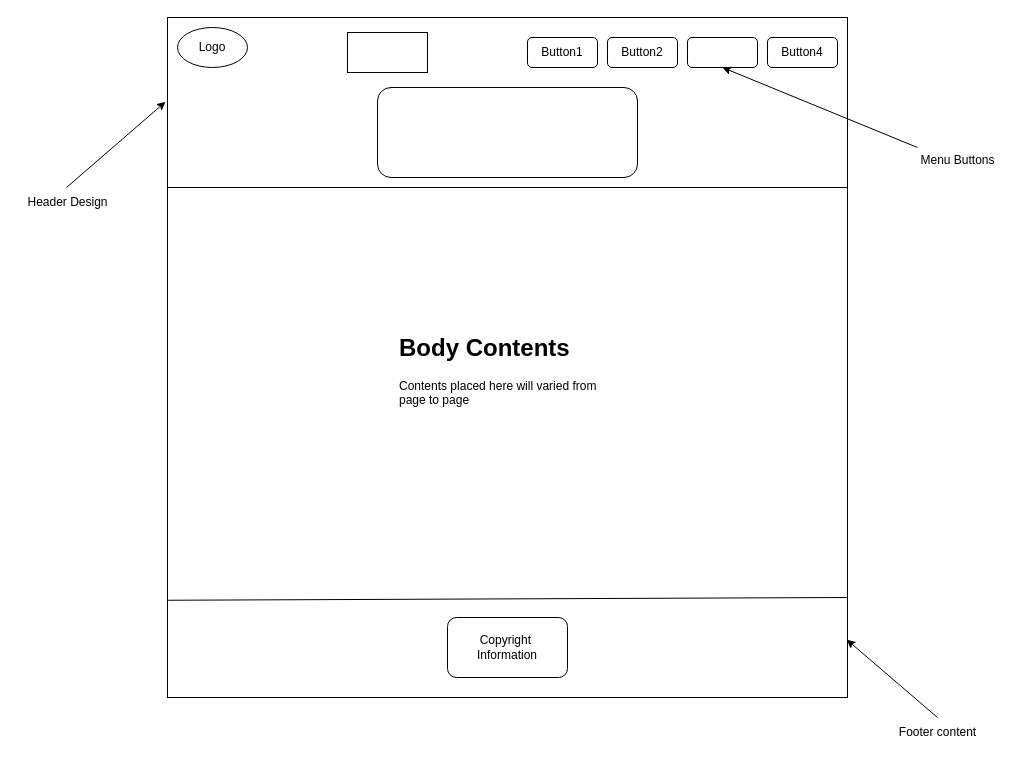
Image size: 1024x765. Some labels were removed from this diagram. The centre of each missing label's shape, as x and y in pixels:
Banner Photo: (x=507, y=132)
Button3: (x=722, y=52)
Title: (x=387, y=52)
